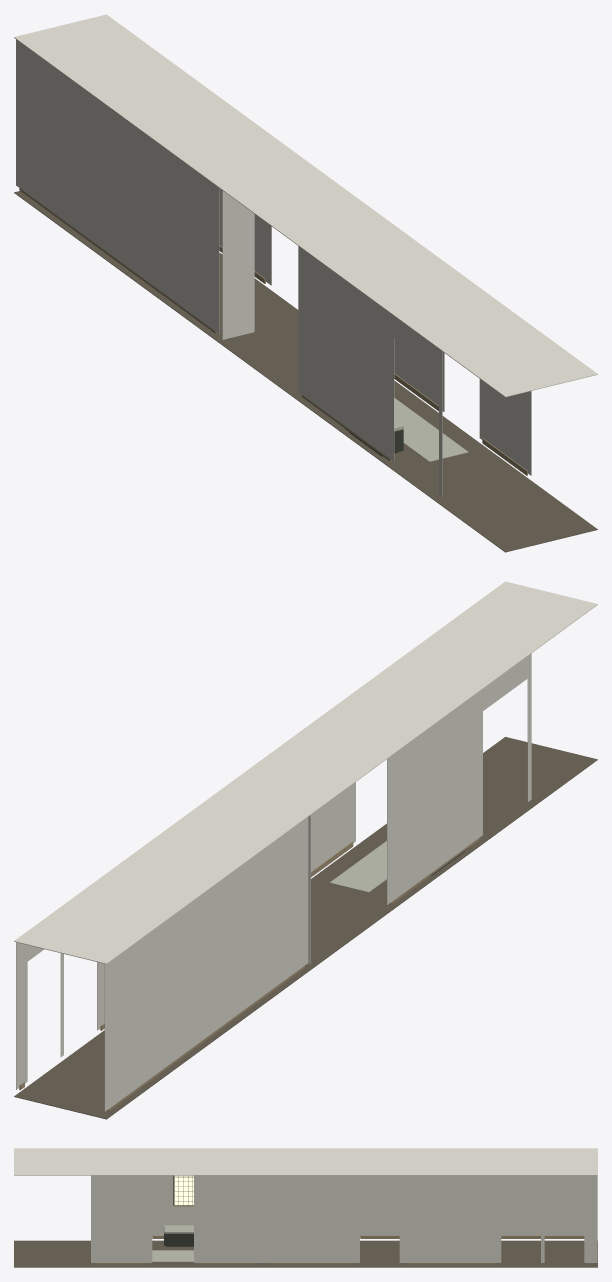
The model's file is corridor-3.glb.
3 renders of one model, top to bottom at view 1: azimuth 30°, elevation 25°; view 2: azimuth 150°, elevation 25°; view 3: azimuth 270°, elevation 25°, orthographic. The views are drawn at different scales.
Parts seen in each view (by area): view 1: DESIGN | Entrance coordinated ceiling, DESIGN | Entrance paired wall finish, DESIGN | Entrance floor finish, DESIGN | Entrance paired wall finish.003, DESIGN | Arch approach finish, DESIGN | Entrance paired wall finish.013, DESIGN | Entrance quiet runner, DESIGN | Entrance paired wall finish.012, DESIGN | Entrance paired wall finish.006, DESIGN | Entrance paired wall finish.002; view 2: DESIGN | Entrance coordinated ceiling, DESIGN | Entrance paired wall finish, DESIGN | Entrance floor finish, DESIGN | Entrance paired wall finish.003, DESIGN | Entrance paired wall finish.012, DESIGN | Entrance paired wall finish.005, DESIGN | Entrance quiet runner, DESIGN | Entrance paired wall finish.002, DESIGN | Entrance paired wall finish.001; view 3: DESIGN | Entrance coordinated ceiling, DESIGN | Entrance paired wall finish.006, DESIGN | Entrance paired wall finish.009, DESIGN | Entrance floor finish, DESIGN | Entrance paired wall finish.012, DESIGN | Entrance paired wall finish, DESIGN | Entrance paired wall finish.013, DESIGN | Entrance paired wall finish.003, DESIGN | Entrance paired wall finish.005, DESIGN | Entrance paired wall finish.007, DESIGN | Entrance paired wall finish.010, DESIGN | Entrance paired wall finish.004 (+8 smaller).
Part boxes in pixels (x1=…): DESIGN | Entrance coordinated ceiling: x1=14, y1=14, x2=597, y2=397; DESIGN | Entrance paired wall finish: x1=16, y1=39, x2=219, y2=333; DESIGN | Entrance floor finish: x1=14, y1=191, x2=597, y2=552; DESIGN | Entrance paired wall finish.003: x1=298, y1=246, x2=394, y2=461; DESIGN | Arch approach finish: x1=222, y1=190, x2=254, y2=339; DESIGN | Entrance paired wall finish.013: x1=479, y1=379, x2=531, y2=475; DESIGN | Entrance quiet runner: x1=394, y1=398, x2=468, y2=461; DESIGN | Entrance paired wall finish.012: x1=394, y1=339, x2=444, y2=411; DESIGN | Entrance paired wall finish.006: x1=219, y1=188, x2=268, y2=283; DESIGN | Entrance paired wall finish.002: x1=394, y1=316, x2=438, y2=370; DESIGN | Entrance coordinated ceiling: x1=14, y1=581, x2=597, y2=964; DESIGN | Entrance paired wall finish: x1=104, y1=817, x2=308, y2=1111; DESIGN | Entrance floor finish: x1=14, y1=737, x2=597, y2=1119; DESIGN | Entrance paired wall finish.003: x1=387, y1=689, x2=482, y2=904; DESIGN | Entrance paired wall finish.012: x1=311, y1=782, x2=355, y2=871; DESIGN | Entrance paired wall finish.005: x1=16, y1=942, x2=27, y2=1089; DESIGN | Entrance quiet runner: x1=329, y1=841, x2=386, y2=892; DESIGN | Entrance paired wall finish.002: x1=483, y1=656, x2=527, y2=710; DESIGN | Entrance paired wall finish.001: x1=527, y1=653, x2=531, y2=801; DESIGN | Entrance coordinated ceiling: x1=14, y1=1148, x2=597, y2=1175; DESIGN | Entrance paired wall finish.006: x1=402, y1=1175, x2=501, y2=1262; DESIGN | Entrance paired wall finish.009: x1=262, y1=1175, x2=359, y2=1262; DESIGN | Entrance floor finish: x1=14, y1=1240, x2=597, y2=1267; DESIGN | Entrance paired wall finish.012: x1=194, y1=1175, x2=262, y2=1262; DESIGN | Entrance paired wall finish: x1=360, y1=1176, x2=584, y2=1236; DESIGN | Entrance paired wall finish.013: x1=91, y1=1175, x2=152, y2=1262; DESIGN | Entrance paired wall finish.003: x1=152, y1=1175, x2=193, y2=1236; DESIGN | Entrance paired wall finish.005: x1=584, y1=1175, x2=597, y2=1262; DESIGN | Entrance paired wall finish.007: x1=501, y1=1175, x2=540, y2=1191; DESIGN | Entrance paired wall finish.010: x1=360, y1=1175, x2=399, y2=1191; DESIGN | Entrance paired wall finish.004: x1=545, y1=1175, x2=584, y2=1191.
Bounding box in the file's own units: 1.7 × 2.73 × 15.61.
